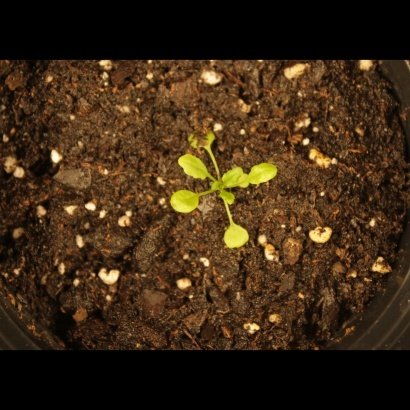leaf: (219, 217, 256, 252), (173, 150, 212, 183), (168, 189, 200, 224), (183, 121, 218, 152), (244, 159, 284, 186), (215, 166, 246, 189), (217, 187, 240, 210)
